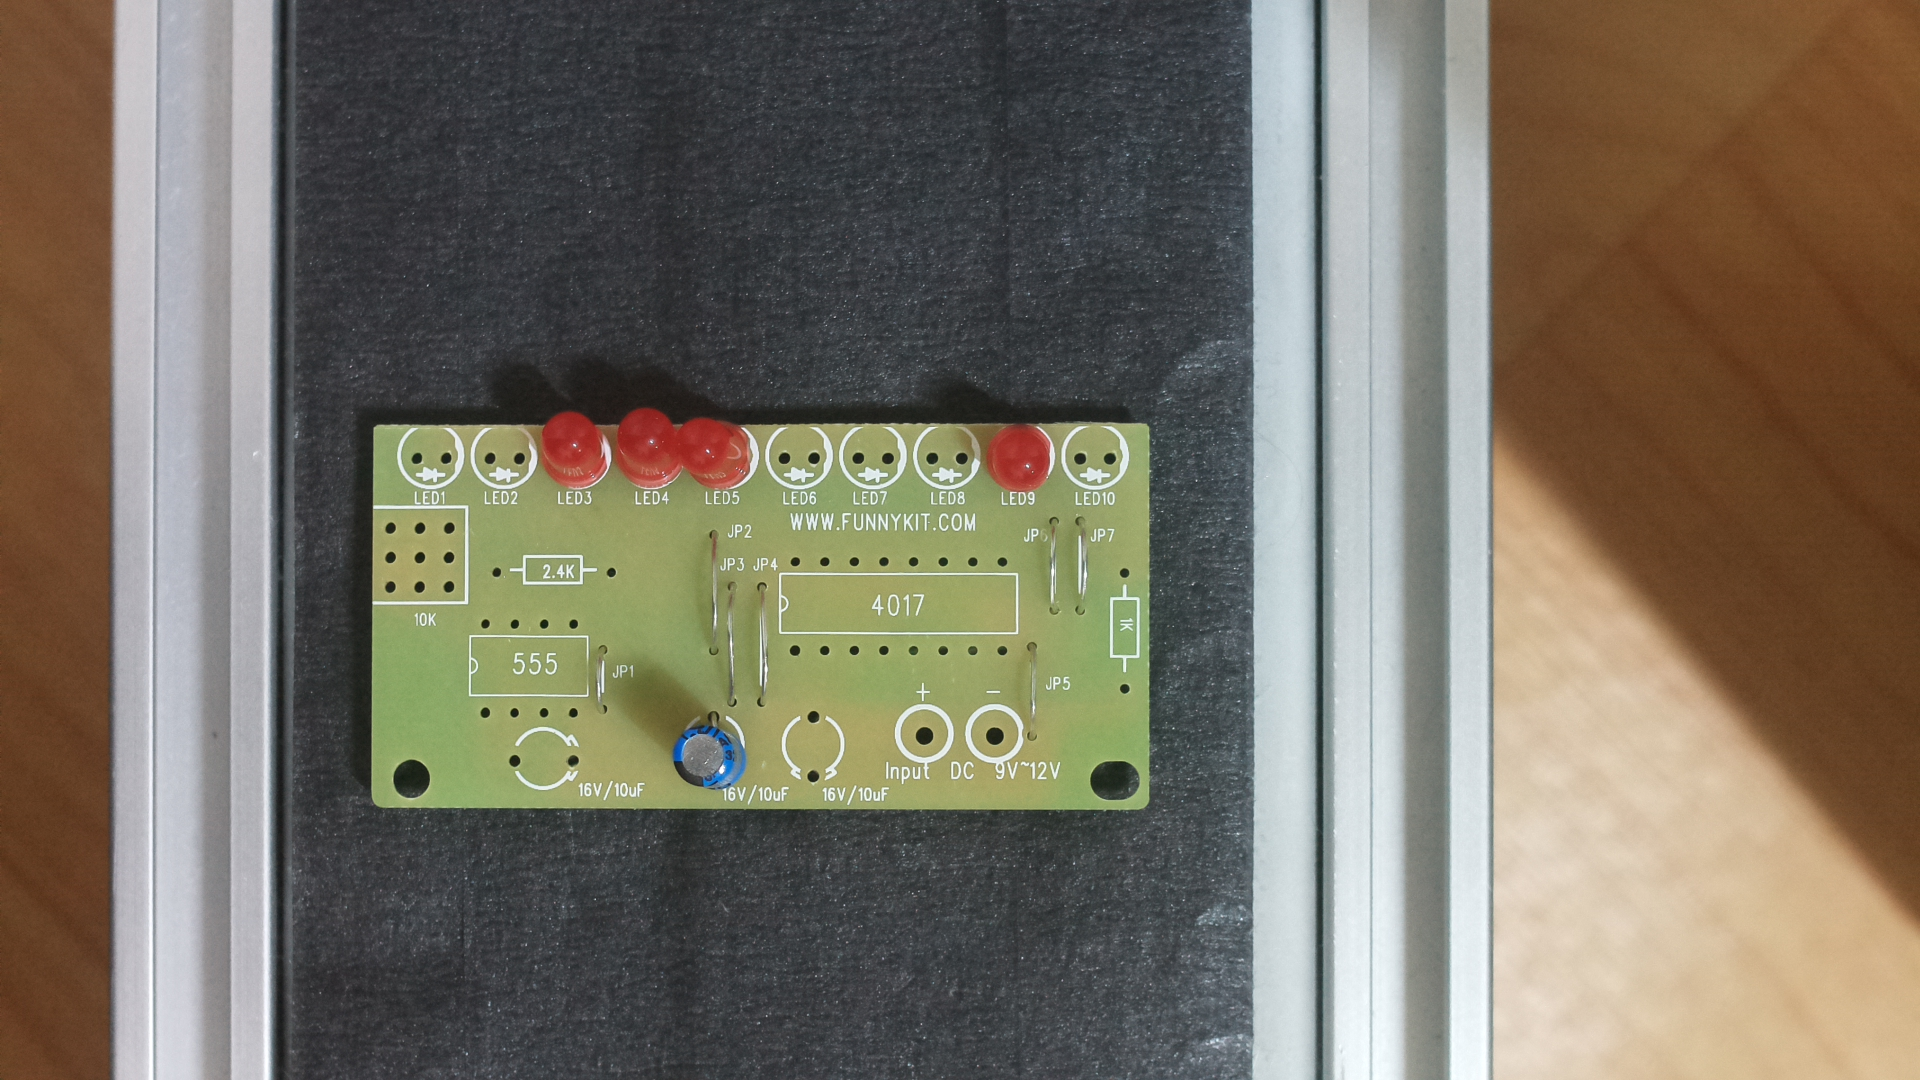B_Missing_part: (351, 385, 1166, 827)
